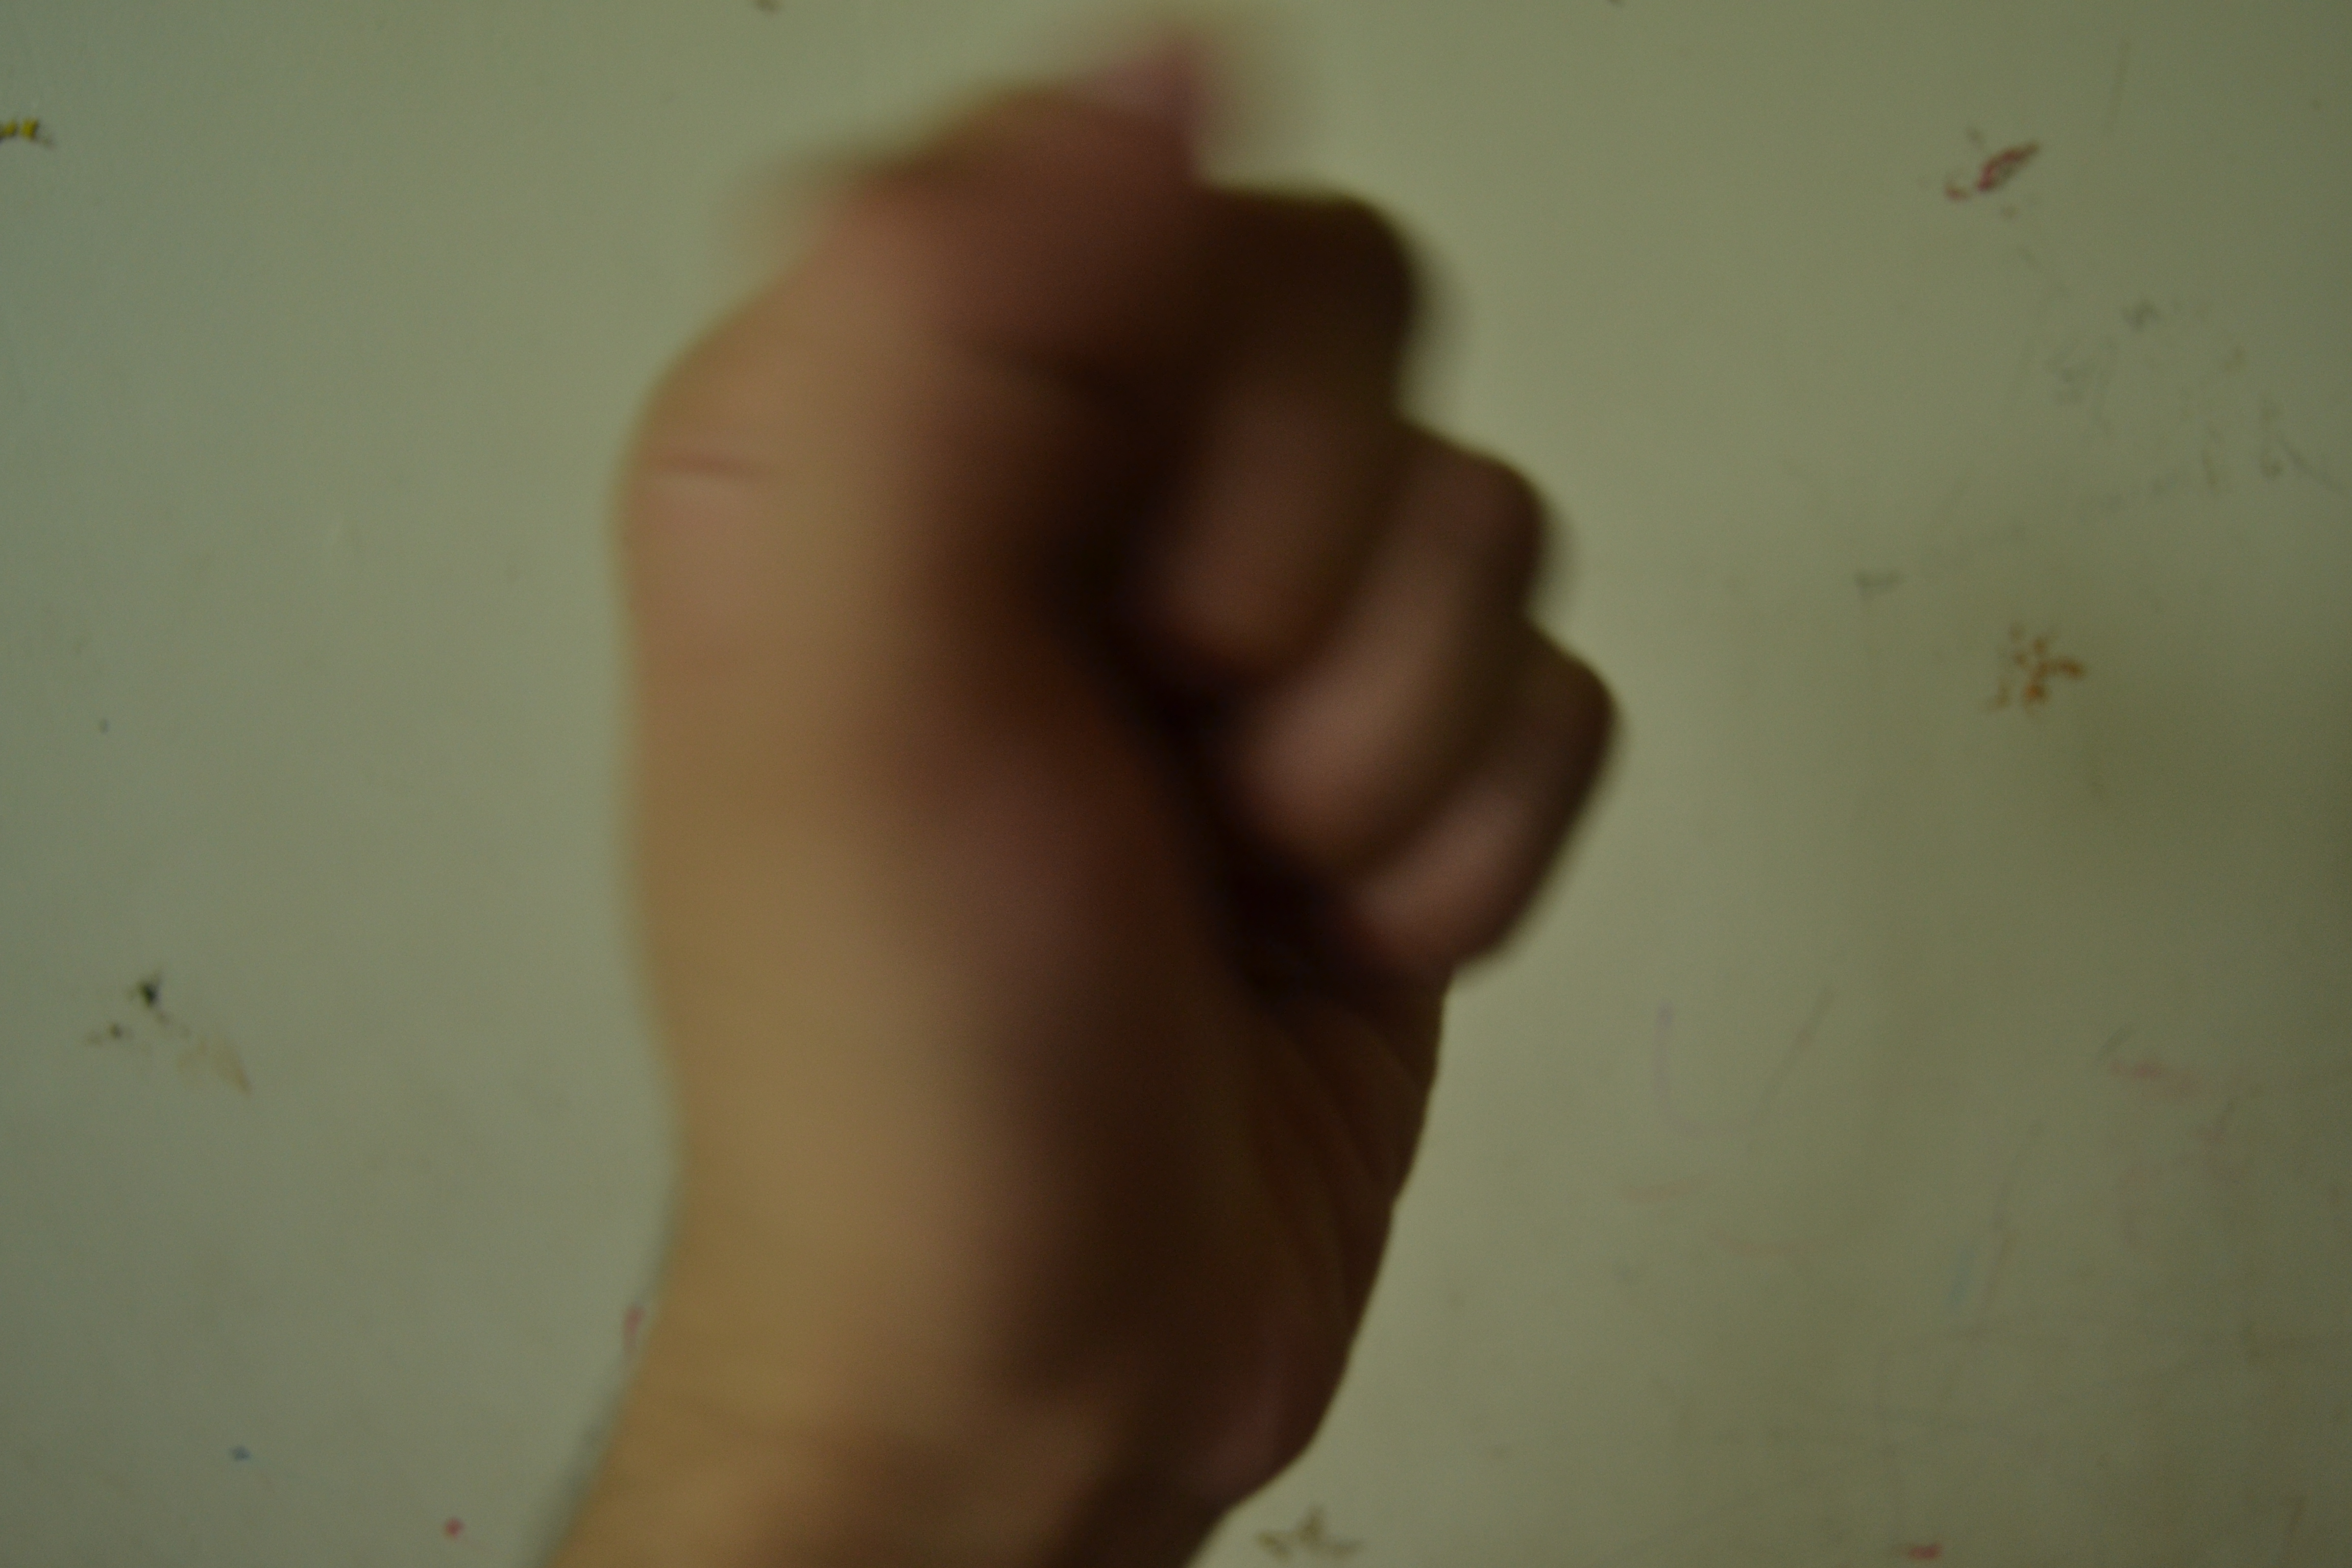click: (516, 12, 1690, 1493)
